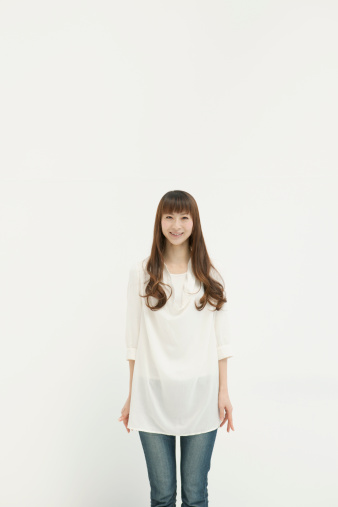em pe: (115, 179, 238, 507)
